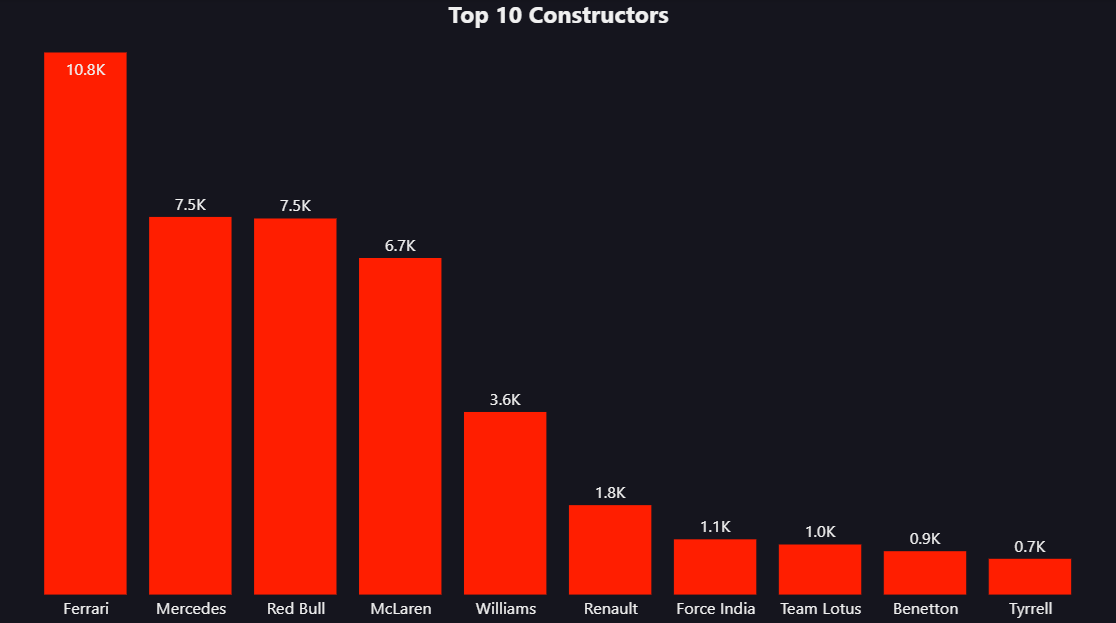

The page's visual inventory and layout, read from the dashboard file:
{"tool":"powerbi","page":{"name":"top constructors","canvas":[1280,720],"ordinal":0},"visuals":[{"type":"columnChart","title":"Top 10 Constructors","fields":{"Category":["top constructors.constructor_name"],"Y":["Sum(top constructors.total_team_points)"]},"box":[0,0,1280.3,720.4],"z":0}]}

Visuals, with their boxes in screenshot pixels (x1, y1, x2, y2), scaled from the page's 1280x720 canvas onto the 1116x623 screenshot:
"Top 10 Constructors" columnChart: 0 0 1115 622
